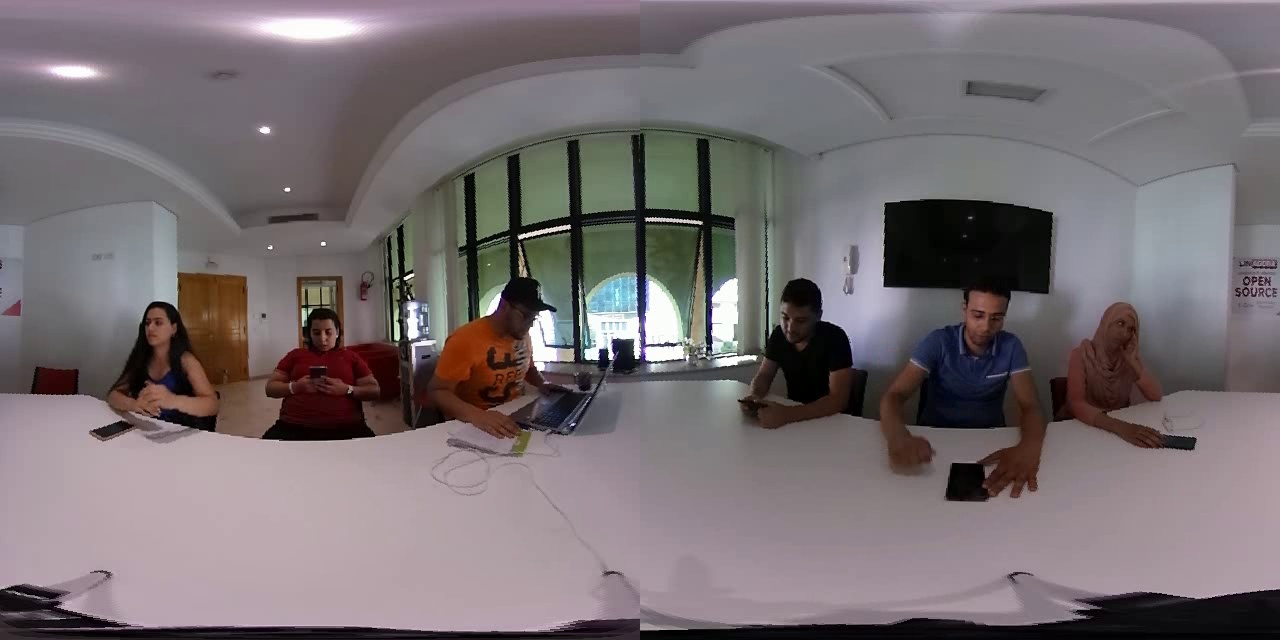person: (874, 276, 1056, 500), (419, 269, 574, 436), (1063, 300, 1199, 480), (726, 265, 862, 440), (246, 303, 393, 450), (97, 294, 224, 437)
